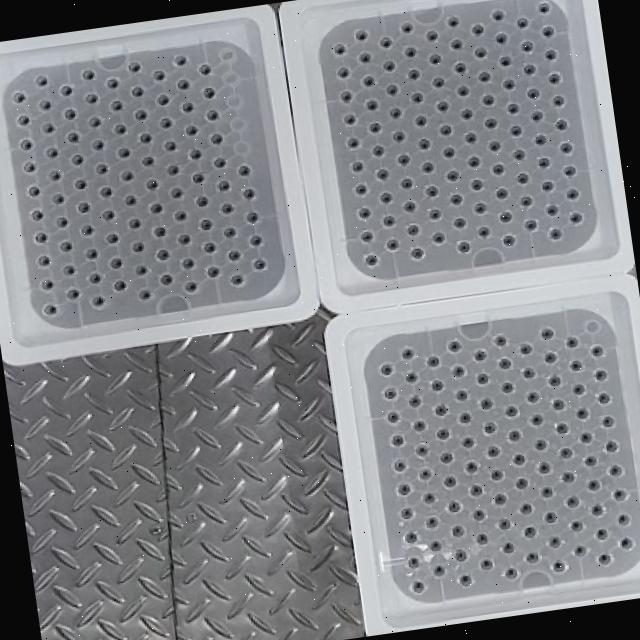pfs: (448, 339, 463, 353), (415, 443, 429, 457), (380, 363, 395, 376), (383, 387, 398, 400), (133, 109, 149, 121), (552, 560, 566, 573), (620, 537, 634, 550), (42, 304, 57, 316), (465, 461, 480, 473), (598, 392, 613, 404), (555, 422, 570, 434), (497, 518, 512, 530), (458, 574, 473, 586), (608, 465, 623, 477), (409, 395, 422, 408), (455, 549, 468, 562), (452, 525, 465, 538), (592, 504, 605, 517), (59, 85, 73, 97), (30, 209, 44, 221), (37, 255, 51, 267), (40, 279, 54, 291), (365, 254, 379, 266), (431, 379, 445, 391), (452, 366, 466, 378), (541, 328, 555, 340), (397, 483, 411, 495), (400, 507, 414, 519), (505, 568, 519, 580), (588, 479, 602, 491), (526, 552, 540, 564), (570, 520, 584, 532), (613, 489, 627, 501), (106, 77, 119, 89), (139, 132, 152, 144), (117, 147, 130, 159), (334, 43, 347, 55), (380, 36, 393, 48), (426, 30, 439, 42), (387, 239, 400, 251), (377, 168, 390, 180), (418, 138, 431, 150), (415, 115, 428, 127), (454, 217, 467, 229), (457, 241, 470, 253), (474, 202, 487, 214), (471, 179, 484, 191), (523, 63, 536, 75), (549, 72, 562, 84), (555, 119, 568, 131), (503, 235, 516, 247), (525, 219, 538, 231), (567, 188, 580, 200), (570, 212, 583, 224), (560, 142, 573, 154), (494, 335, 507, 347), (455, 389, 468, 401), (391, 435, 404, 447), (414, 419, 427, 431), (566, 336, 579, 348), (591, 345, 604, 357), (549, 375, 562, 387), (506, 405, 519, 417), (394, 459, 406, 472), (419, 469, 432, 481), (441, 452, 454, 464), (412, 581, 425, 593), (426, 516, 439, 528), (448, 501, 461, 513), (473, 509, 486, 521), (491, 469, 504, 481), (535, 439, 548, 451), (538, 462, 551, 474), (480, 559, 493, 571), (502, 542, 515, 554), (524, 526, 537, 538), (520, 503, 533, 515), (574, 545, 587, 557), (12, 92, 26, 103), (42, 123, 56, 134), (177, 79, 191, 90), (66, 132, 80, 143), (185, 125, 199, 136), (34, 232, 48, 243), (59, 241, 73, 252), (66, 289, 80, 300), (105, 233, 119, 244), (221, 203, 235, 214), (520, 196, 534, 207), (36, 75, 48, 87), (21, 139, 33, 151), (160, 117, 172, 129), (171, 187, 183, 199), (247, 212, 259, 224), (185, 281, 197, 293), (341, 90, 353, 102), (381, 192, 393, 204), (373, 145, 385, 157), (407, 223, 419, 235), (426, 185, 438, 197), (440, 124, 452, 136), (478, 226, 490, 238), (465, 132, 477, 144), (458, 85, 470, 97), (531, 110, 543, 122), (514, 149, 526, 161), (546, 205, 558, 217), (484, 422, 496, 434), (510, 430, 522, 442), (531, 414, 543, 426), (577, 408, 589, 420), (477, 533, 489, 545), (545, 512, 557, 524), (567, 496, 579, 508), (17, 115, 30, 126), (85, 93, 98, 104), (82, 69, 95, 80), (128, 62, 141, 73), (131, 86, 144, 97), (174, 55, 187, 66), (157, 94, 170, 105), (71, 154, 84, 165), (92, 140, 105, 151), (114, 124, 127, 135), (141, 156, 154, 167), (121, 170, 134, 181), (95, 163, 108, 174), (75, 179, 88, 190), (27, 186, 40, 197), (56, 217, 69, 228), (100, 187, 113, 198), (81, 225, 94, 236), (129, 218, 142, 229), (146, 179, 159, 190), (189, 149, 202, 160), (135, 265, 148, 276), (218, 180, 231, 191), (238, 165, 251, 176), (224, 227, 237, 238), (203, 242, 216, 253), (181, 258, 194, 269), (139, 289, 152, 300), (231, 274, 244, 285), (356, 30, 369, 41), (359, 52, 372, 63), (447, 16, 460, 27), (542, 26, 555, 37), (450, 39, 463, 50), (453, 62, 466, 73), (383, 61, 396, 72), (337, 67, 350, 78), (386, 84, 399, 95), (355, 184, 368, 195), (358, 207, 371, 218), (360, 231, 373, 242), (383, 216, 396, 227), (393, 131, 406, 142), (447, 170, 460, 181), (450, 194, 463, 205), (433, 232, 446, 243), (468, 156, 481, 167), (482, 95, 495, 106), (509, 125, 522, 136), (488, 141, 501, 152), (500, 211, 513, 222), (563, 166, 576, 177), (549, 229, 562, 240), (402, 348, 415, 359), (474, 350, 487, 361), (499, 358, 512, 369), (387, 412, 400, 423), (436, 405, 449, 416), (459, 412, 472, 423), (481, 398, 494, 409), (570, 360, 583, 371), (527, 392, 540, 403), (487, 446, 500, 457), (444, 476, 457, 487), (405, 532, 418, 543), (429, 540, 442, 551), (470, 485, 483, 496), (513, 454, 526, 465), (573, 384, 586, 395), (595, 370, 608, 381), (516, 478, 529, 489), (562, 472, 575, 483), (584, 456, 597, 467), (560, 448, 573, 459), (605, 441, 618, 452), (549, 537, 562, 548), (618, 514, 631, 525), (45, 148, 59, 158), (91, 296, 105, 306), (400, 23, 414, 33), (65, 109, 77, 120), (153, 70, 165, 81), (24, 161, 35, 173), (205, 87, 216, 99), (208, 109, 219, 121), (86, 248, 98, 259), (125, 195, 137, 206), (167, 165, 179, 176), (211, 133, 223, 144), (214, 157, 226, 168), (154, 226, 166, 237), (114, 280, 126, 291), (157, 249, 169, 260), (200, 219, 212, 230), (175, 210, 187, 221), (244, 188, 256, 199), (161, 274, 173, 285), (251, 235, 263, 246), (254, 259, 266, 270), (472, 24, 484, 35), (493, 10, 505, 21), (517, 17, 529, 28), (539, 2, 551, 13), (521, 41, 533, 52), (475, 47, 487, 58), (408, 69, 420, 80), (390, 107, 401, 119), (401, 178, 413, 189), (404, 201, 416, 212), (411, 248, 423, 259), (412, 92, 424, 103), (432, 77, 444, 88), (504, 79, 516, 90), (545, 49, 557, 60), (507, 103, 519, 114), (538, 157, 550, 168), (517, 173, 529, 184), (496, 188, 508, 199), (427, 356, 439, 367), (406, 372, 418, 383), (477, 374, 489, 385), (523, 367, 535, 378), (545, 352, 557, 363), (463, 437, 475, 448), (437, 428, 449, 439), (424, 493, 436, 504), (433, 566, 445, 577), (553, 399, 565, 410), (603, 416, 615, 427), (541, 487, 553, 498), (596, 529, 608, 540), (599, 554, 611, 565), (89, 117, 102, 127), (49, 171, 62, 181), (102, 210, 115, 220), (63, 266, 76, 276), (192, 173, 205, 183), (132, 242, 145, 252), (89, 273, 102, 283), (178, 234, 191, 244), (207, 267, 220, 277), (229, 250, 242, 260), (429, 54, 442, 64), (362, 76, 375, 86), (344, 114, 357, 124), (369, 123, 382, 133), (347, 138, 360, 148), (428, 209, 441, 219), (484, 118, 497, 128), (520, 344, 533, 354), (200, 64, 211, 75), (197, 196, 208, 207), (398, 154, 409, 165), (423, 162, 434, 173), (444, 147, 455, 158), (493, 164, 504, 175), (502, 382, 513, 393), (409, 557, 420, 568), (581, 432, 592, 443), (39, 100, 51, 110), (111, 100, 123, 110), (182, 103, 194, 113), (165, 141, 177, 151), (52, 194, 64, 204), (78, 203, 90, 213), (110, 258, 122, 268), (496, 33, 508, 43), (366, 100, 378, 110), (351, 162, 363, 172), (437, 101, 449, 111), (461, 109, 473, 119), (479, 72, 491, 82), (553, 96, 565, 106), (528, 88, 540, 98), (542, 181, 554, 191), (495, 494, 507, 504), (406, 47, 417, 57), (501, 56, 511, 67), (535, 135, 546, 145), (151, 204, 163, 213)
